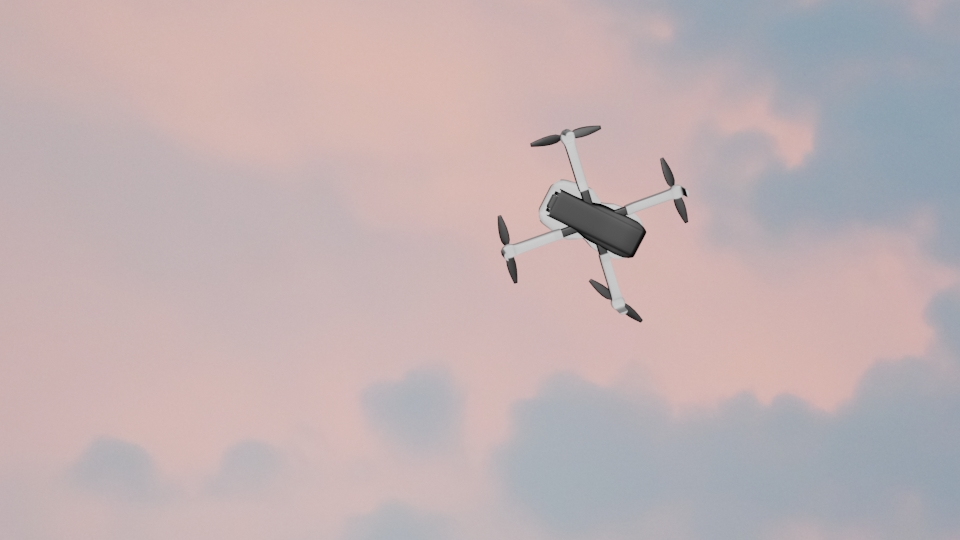drone: (494, 121, 696, 317)
